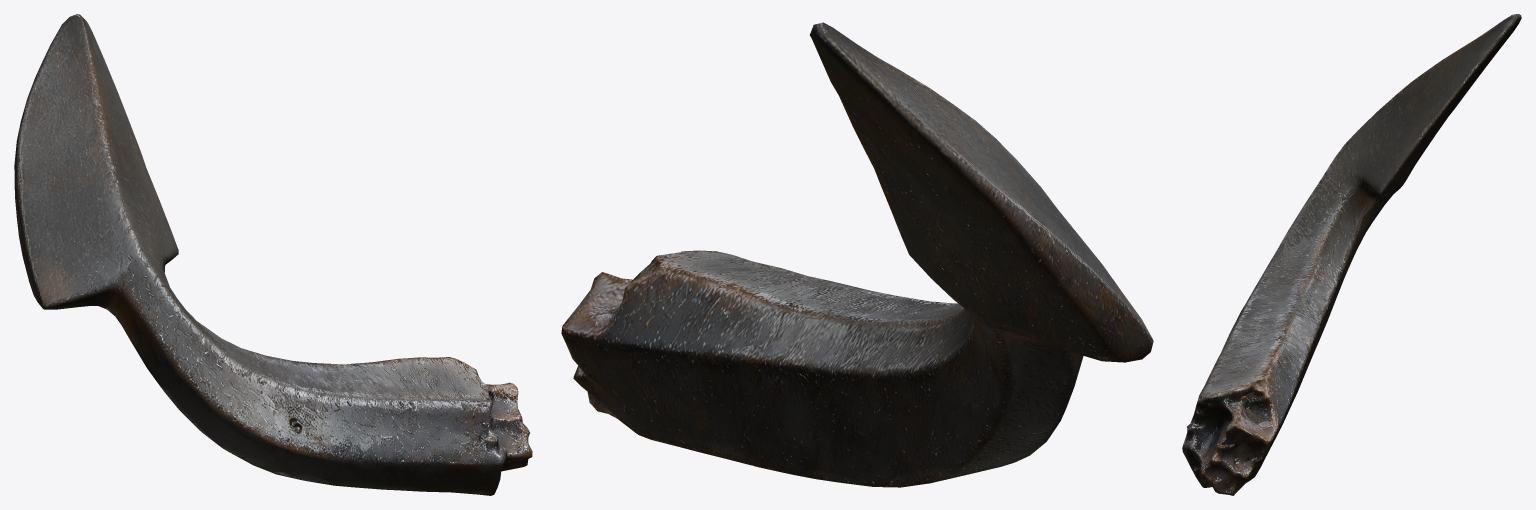
File: scrap_Anchor.fbx
3 renders of one model, left to right at view 1: azimuth 30°, elevation 25°; view 2: azimuth 150°, elevation 25°; view 3: azimuth 270°, elevation 25°, orthographic. The views are drawn at different scales.
Parts seen in each view (by area): view 1: input; view 2: input; view 3: input.
Boxes of the visible parts, x1,y1,x2,y2 form: input: (14, 14, 532, 495); input: (561, 22, 1153, 487); input: (1182, 14, 1521, 495).
Bounding box in the file's own units: 99.69 × 98.39 × 81.97.
Materials: 1 (1 with a texture image).
